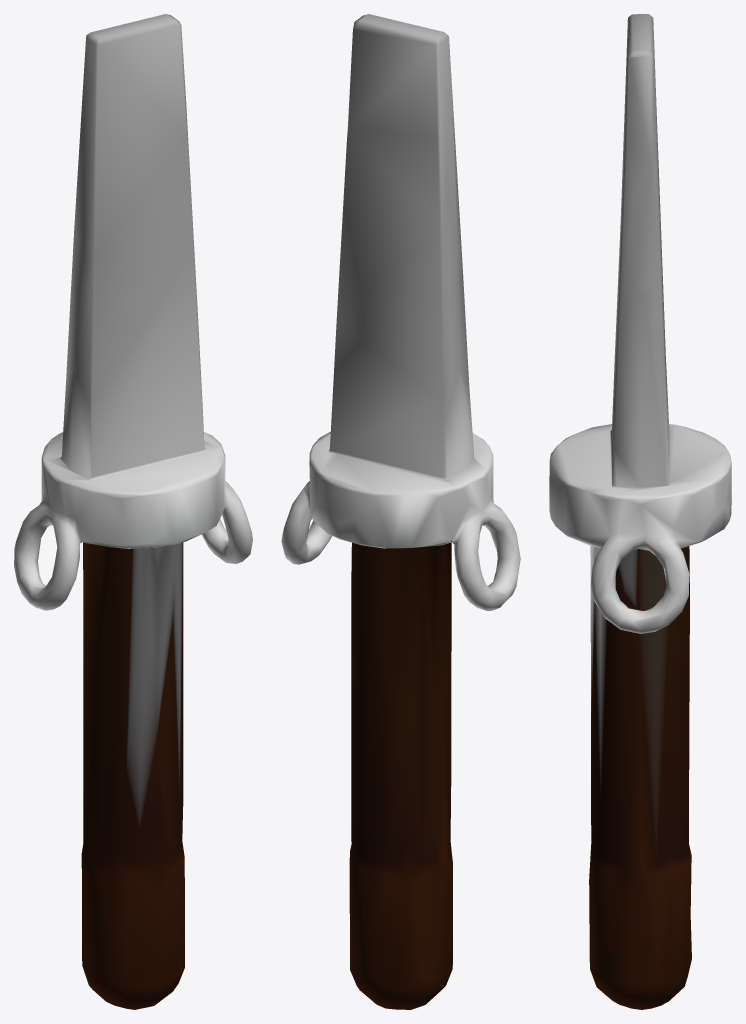
The model's file is gen3d-throwing-knife-lod1.glb.
3 renders of one model, left to right at view 1: azimuth 30°, elevation 25°; view 2: azimuth 150°, elevation 25°; view 3: azimuth 270°, elevation 25°, orthographic.
Parts seen in each view (by area): view 1: part_0; view 2: part_0; view 3: part_0.
Part boxes in pixels (x1,y1,x2,y2): part_0: [14, 14, 252, 1009]; part_0: [281, 14, 520, 1009]; part_0: [549, 14, 731, 1009].
Bounding box in the file's own units: 0.2221 × 0.9991 × 0.1696.
